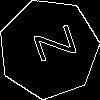Z: (23, 24, 77, 67)
